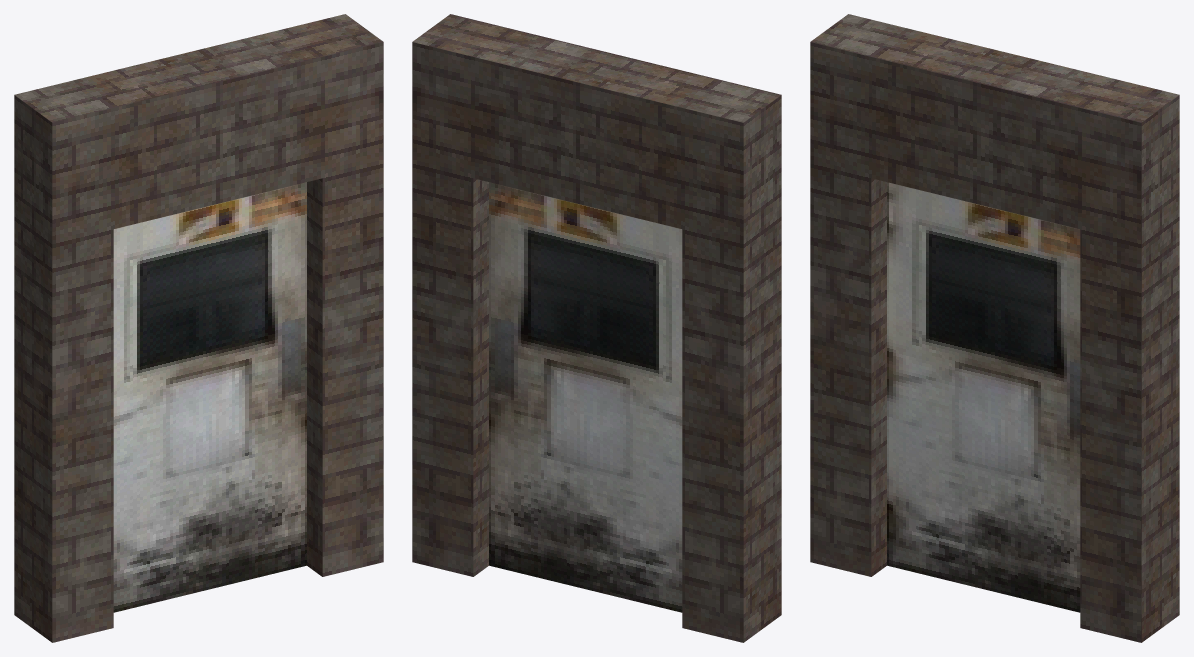
File: wall_doorway_01.gltf
The picture shows the model from 3 angles, left to right: view 1: azimuth 30°, elevation 25°; view 2: azimuth 150°, elevation 25°; view 3: azimuth 330°, elevation 25°; orthographic projection.
Visible parts, largest first — view 1: wall_doorway_01, door; view 2: wall_doorway_01, door; view 3: wall_doorway_01, door.
Boxes of the visible parts, <box> form: wall_doorway_01: <box>14,14,383,642</box>; door: <box>113,182,306,612</box>; wall_doorway_01: <box>412,14,781,642</box>; door: <box>489,182,682,612</box>; wall_doorway_01: <box>810,14,1179,642</box>; door: <box>887,182,1080,612</box>.
Bounding box in the file's own units: 2 × 3 × 0.4.
2 materials, 2 textured.
